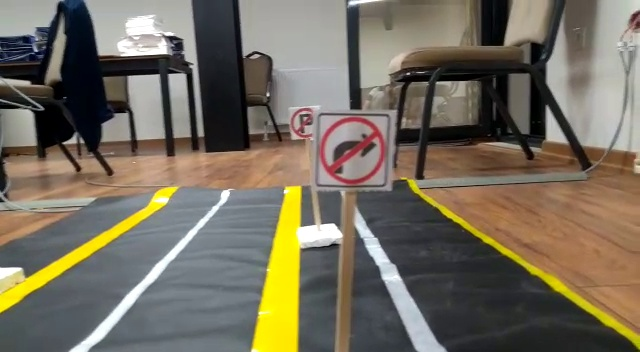park_yapilmaz: (292, 108, 319, 139)
saga_donulmez: (317, 112, 391, 189)
